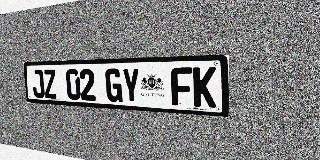0: (65, 69, 81, 100)
2: (79, 69, 96, 101)
F: (171, 67, 193, 106)
G: (105, 68, 123, 102)
J: (31, 70, 45, 98)
K: (193, 67, 216, 108)
Y: (122, 68, 140, 103)
Z: (43, 69, 57, 99)
